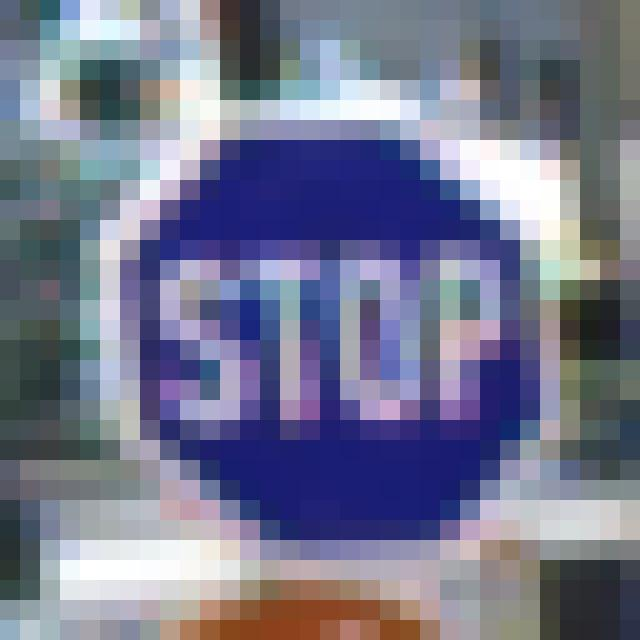STOP: (100, 104, 578, 556)
